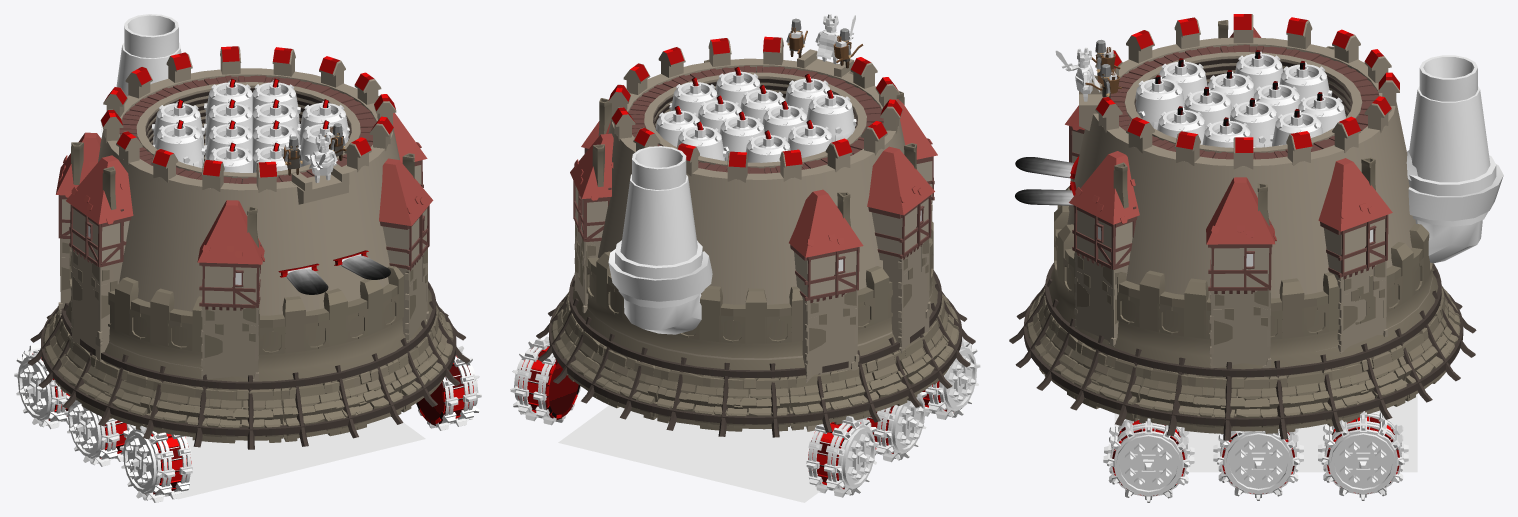
File: Boss_T2_Mortar.glb
The picture shows the model from 3 angles, left to right: view 1: azimuth 30°, elevation 25°; view 2: azimuth 150°, elevation 25°; view 3: azimuth 270°, elevation 25°; orthographic projection. The views are drawn at different scales.
Parts seen in each view (by area): view 1: BOSS 2v2 Testcleaning, VFX_Slow, Wanderburg_Wheel_TF_005.005, auspuff, Wanderburg_Wheel_TF_005, Wanderburg_Wheel_TF_005.003, Wanderburg_Wheel_TF_005.004, Mortar (13), Mortar (12), Mortar (5), Mortar (9), Mortar (7) (+9 smaller); view 2: BOSS 2v2 Testcleaning, auspuff, VFX_Slow, Wanderburg_Wheel_TF_005.003, Wanderburg_Wheel_TF_005.002, Wanderburg_Wheel_TF_005.004, Wanderburg_Wheel_TF_005.005, Mortar (6), Mortar (7), Mortar (13), Mortar (11), Mortar (5) (+8 smaller); view 3: BOSS 2v2 Testcleaning, auspuff, Wanderburg_Wheel_TF_005.002, Wanderburg_Wheel_TF_005, Wanderburg_Wheel_TF_005.001, VFX_Slow, Mortar (2), Mortar (4), Mortar (12), Mortar (13), Mortar (3), Mortar (8) (+9 smaller).
Boxes of the visible parts, x1,y1,x2,y2 form: BOSS 2v2 Testcleaning: (27, 46, 469, 449); VFX_Slow: (123, 416, 425, 499); Wanderburg_Wheel_TF_005.005: (119, 425, 192, 502); auspuff: (100, 14, 181, 134); Wanderburg_Wheel_TF_005: (416, 345, 481, 430); Wanderburg_Wheel_TF_005.003: (14, 344, 69, 429); Wanderburg_Wheel_TF_005.004: (64, 396, 130, 466); Mortar (13): (153, 121, 205, 168); Mortar (12): (151, 101, 205, 156); Mortar (5): (204, 122, 252, 159); Mortar (9): (298, 101, 349, 144); Mortar (7): (203, 101, 252, 159); BOSS 2v2 Testcleaning: (536, 36, 975, 437); auspuff: (608, 146, 712, 334); VFX_Slow: (558, 405, 820, 502); Wanderburg_Wheel_TF_005.003: (806, 416, 878, 497); Wanderburg_Wheel_TF_005.002: (510, 336, 581, 425); Wanderburg_Wheel_TF_005.004: (864, 392, 928, 462); Wanderburg_Wheel_TF_005.005: (922, 336, 980, 419); Mortar (6): (806, 92, 856, 141); Mortar (7): (719, 114, 765, 160); Mortar (13): (787, 123, 832, 157); Mortar (11): (677, 124, 726, 160); Mortar (5): (762, 104, 807, 141); BOSS 2v2 Testcleaning: (1009, 14, 1476, 440); auspuff: (1406, 55, 1503, 263); Wanderburg_Wheel_TF_005.002: (1318, 411, 1408, 500); Wanderburg_Wheel_TF_005: (1103, 418, 1194, 502); Wanderburg_Wheel_TF_005.001: (1213, 428, 1303, 500); VFX_Slow: (1114, 394, 1417, 472); Mortar (2): (1135, 77, 1184, 129); Mortar (4): (1230, 99, 1277, 147); Mortar (12): (1279, 62, 1332, 102); Mortar (13): (1235, 51, 1283, 92); Mortar (3): (1184, 88, 1232, 128); Mortar (8): (1270, 110, 1322, 146).
Bounding box in the file's own units: 38.64 × 33.69 × 40.85.
Materials: 23 (7 with a texture image).
